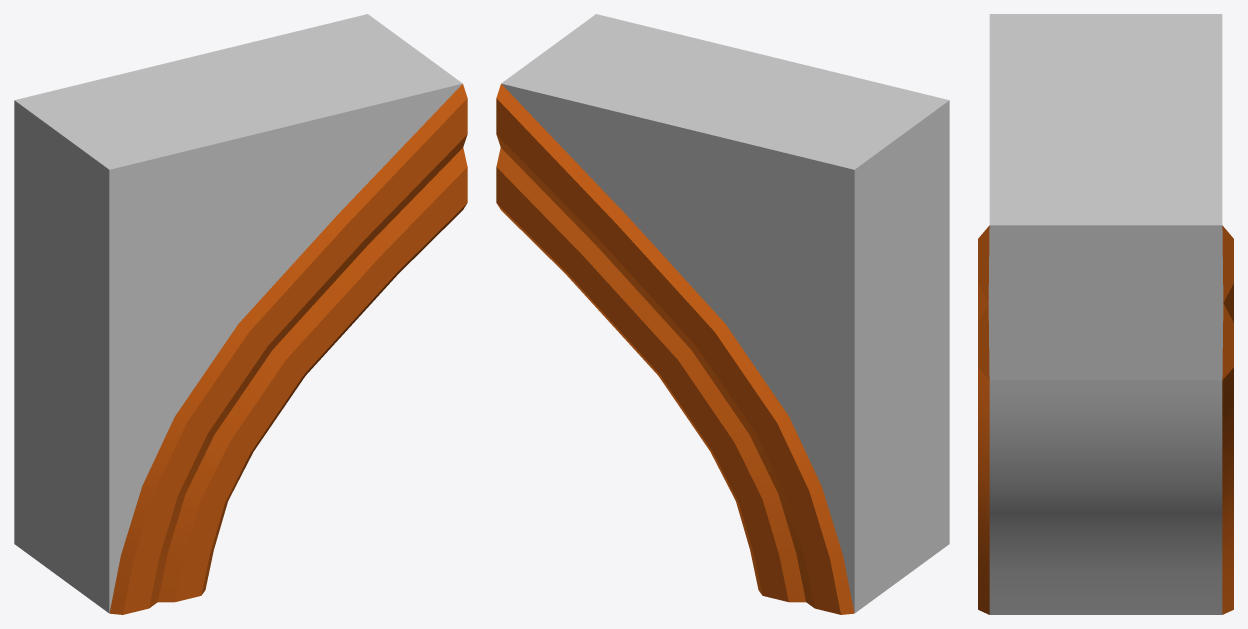
File: dfk_arch_0_half_blocked_small.fbx
3 renders of one model, left to right at view 1: azimuth 30°, elevation 25°; view 2: azimuth 150°, elevation 25°; view 3: azimuth 270°, elevation 25°, orthographic. The views are drawn at different scales.
Parts seen in each view (by area): view 1: Arch_1b_block; view 2: Arch_1b_block; view 3: Arch_1b_block.
Part boxes in pixels (x1,y1,x2,y2): Arch_1b_block: (14,14,467,614); Arch_1b_block: (496,14,949,614); Arch_1b_block: (978,14,1233,614).
Size of the model in its own units: 2.5 by 3 by 1.28.
